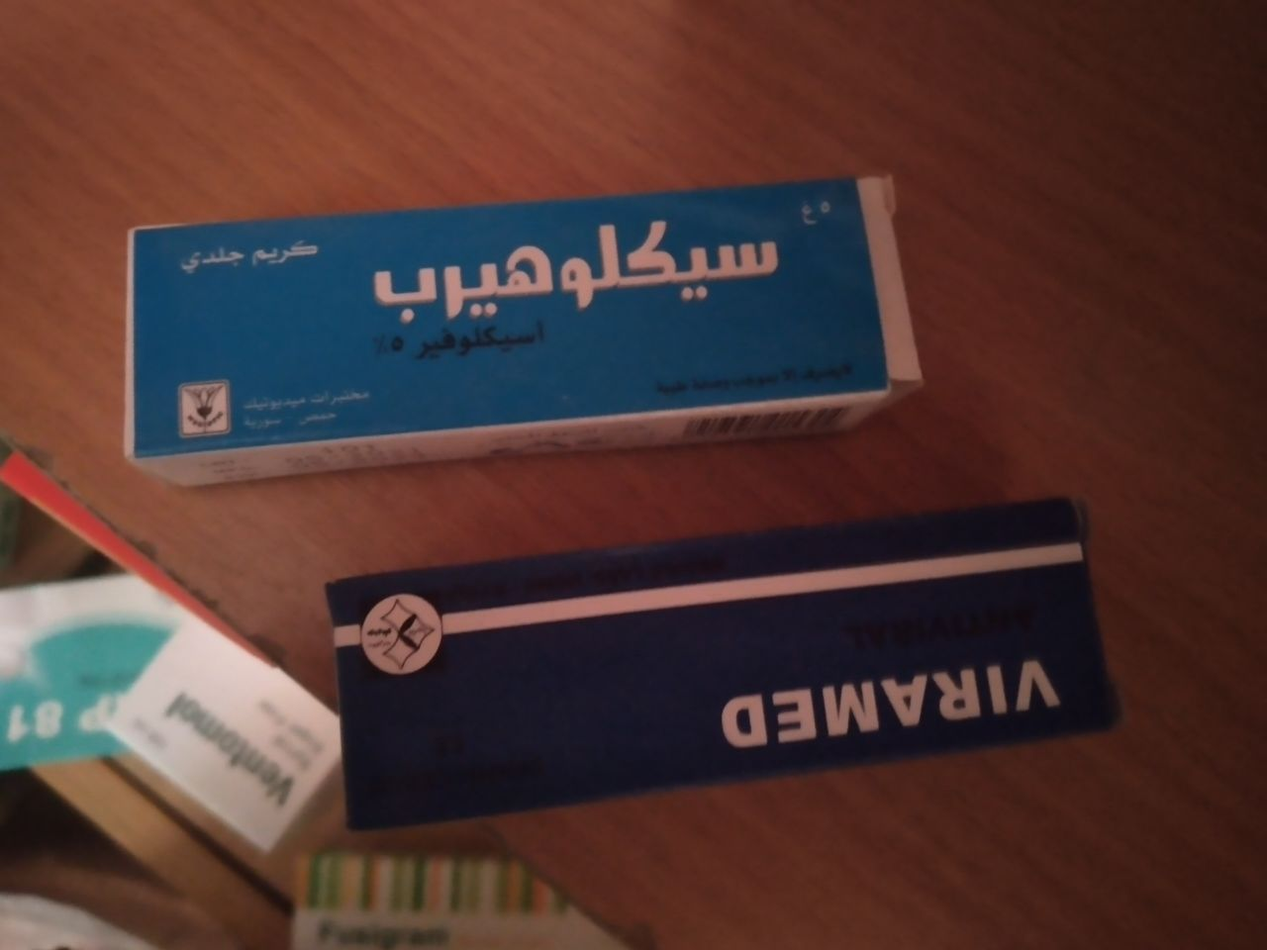Medicine: (309, 482, 1178, 821), (89, 166, 928, 482)
